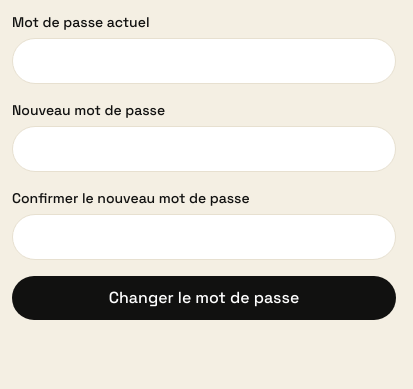
AccountPasswordForm › confirms in place, and does not touch the forced-change flag
The width and height of the screenshot is (413, 389).
Type "actuel-valide" into the password field labelled "Mot de passe actuel".
click(204, 61); type("actuel-valide")  # box top-left (12, 38), bottom-right (396, 84)
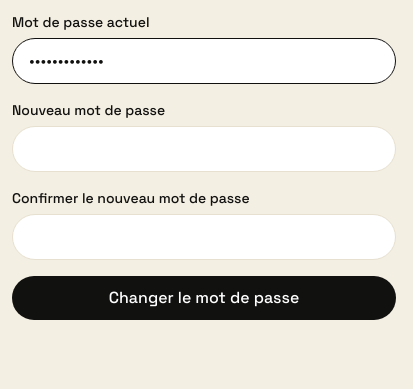
Type "motdepasse-valide" into the password field labelled "Nouveau mot de passe".
click(204, 149); type("motdepasse-valide")  # box top-left (12, 126), bottom-right (396, 172)
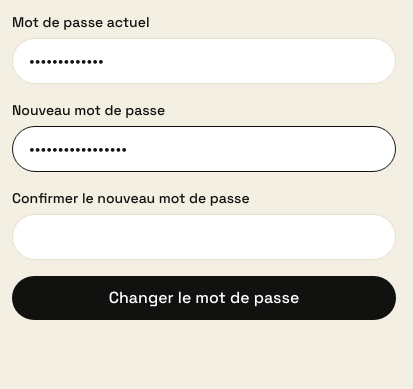
Type "motdepasse-valide" into the password field labelled "Confirmer le nouveau mot de passe".
click(204, 237); type("motdepasse-valide")  # box top-left (12, 214), bottom-right (396, 260)
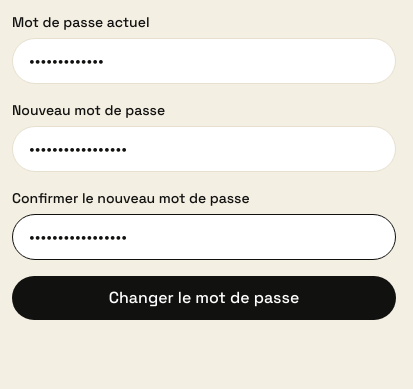
Click the button "Changer le mot de passe".
click(204, 298)  # box top-left (12, 276), bottom-right (396, 320)
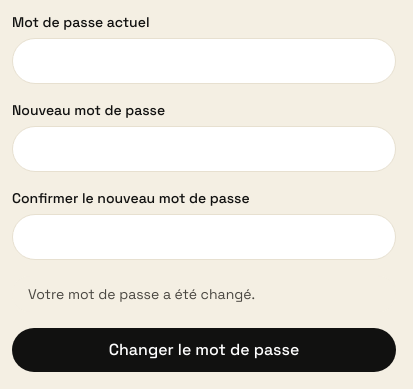
Expected: the message shows "Votre mot de passe a été changé", top-left (28, 285), bottom-right (255, 303)
